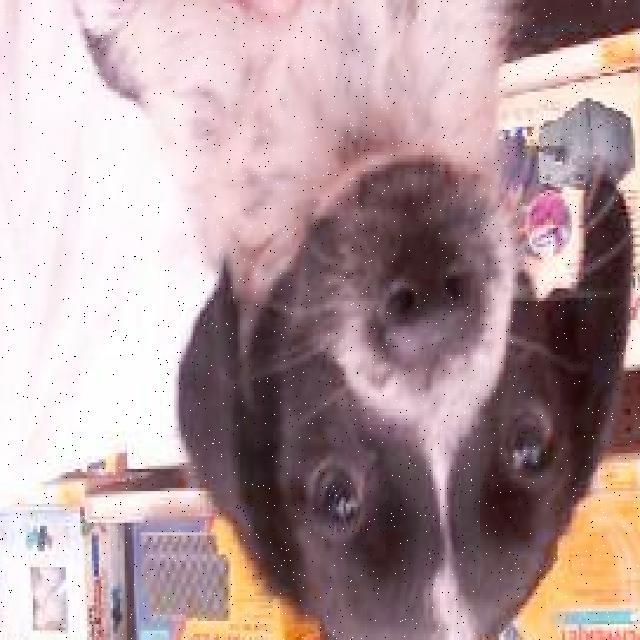Dog: (172, 82, 626, 640)
